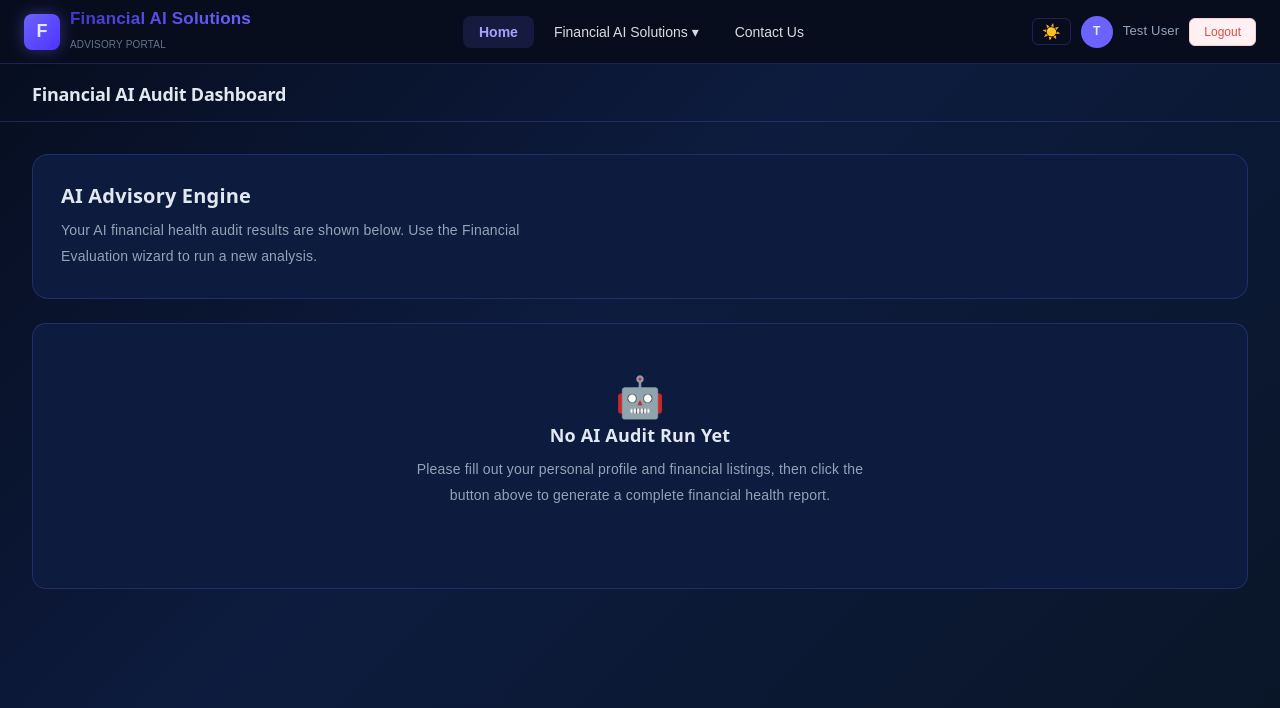
Scenario: Home – Financial Data step (step 2) › shows combined yearly income when both income fields are filled
Hover over the element "Financial AI Solutions ▾" at (626,32), box x1=538 y1=16 x2=715 y2=48
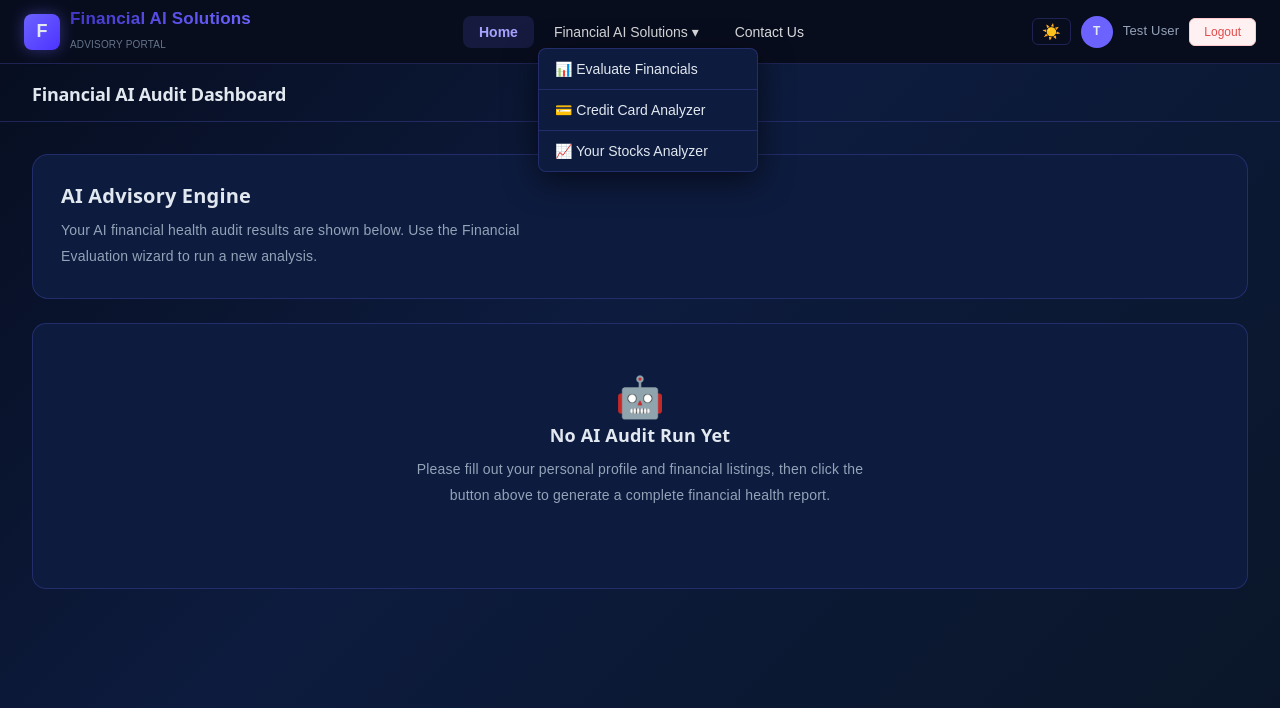
Click the button "📊 Evaluate Financials". click: (648,69)
box: x1=539 y1=48 x2=757 y2=90
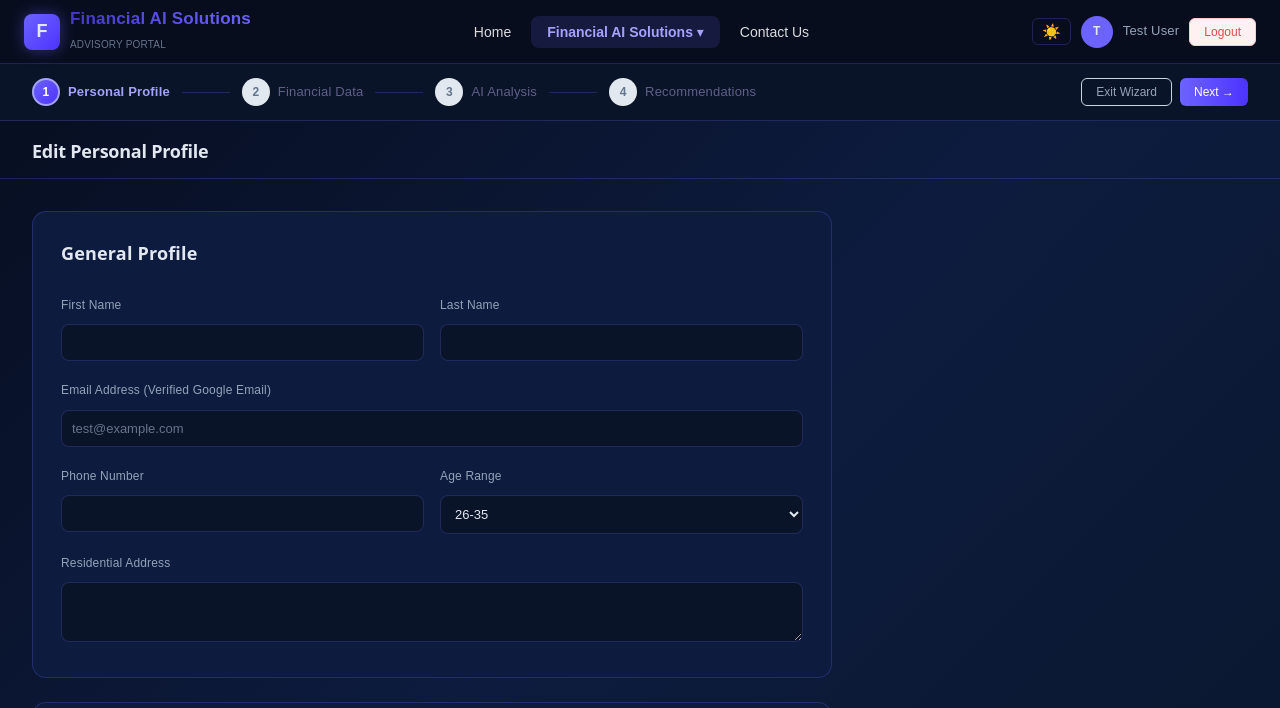
Click the button "Next →". click: (1214,92)
box: x1=1180 y1=78 x2=1248 y2=106
(page scrolled)
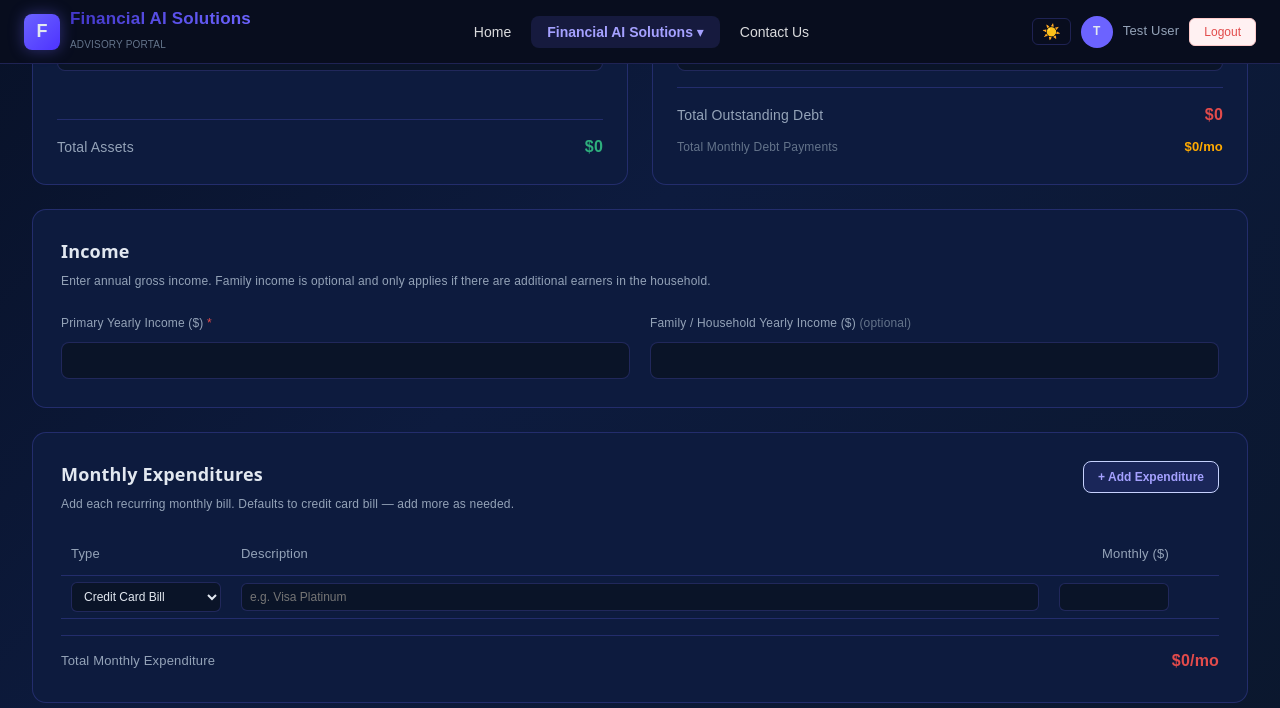
Type "80000" into the number field labelled "Primary Yearly Income ($) *". click: (346,361)
box: x1=61 y1=342 x2=630 y2=379
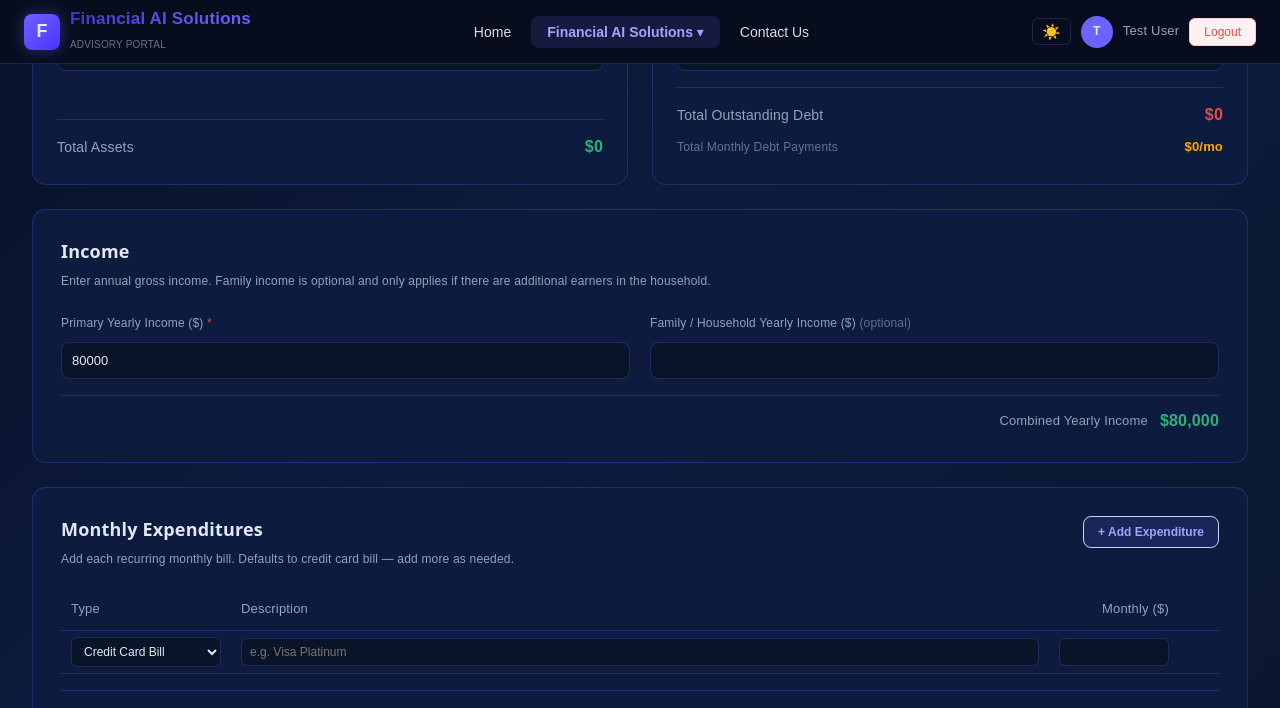
Type "40000" into the number field labelled "Family / Household Yearly Income ($) (optional)". click: (934,361)
box: x1=650 y1=342 x2=1219 y2=379
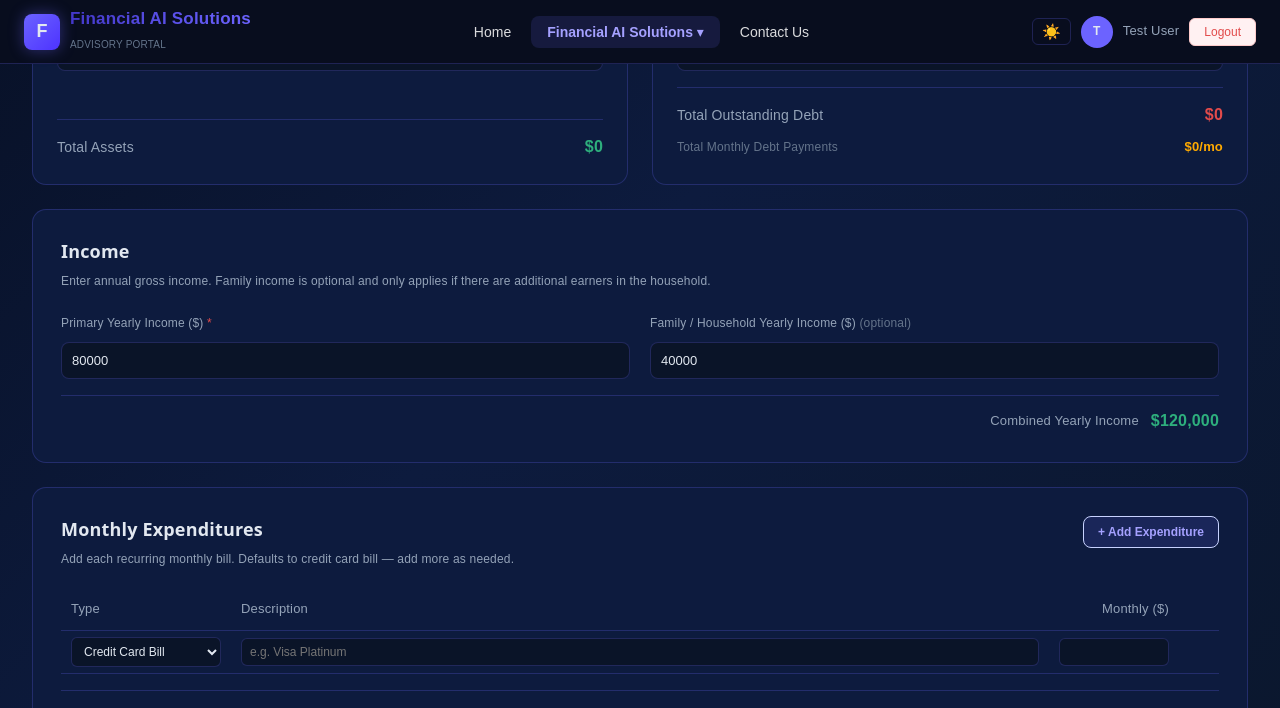
Now the text "$120,000" is shown, box x1=1151 y1=408 x2=1219 y2=434
